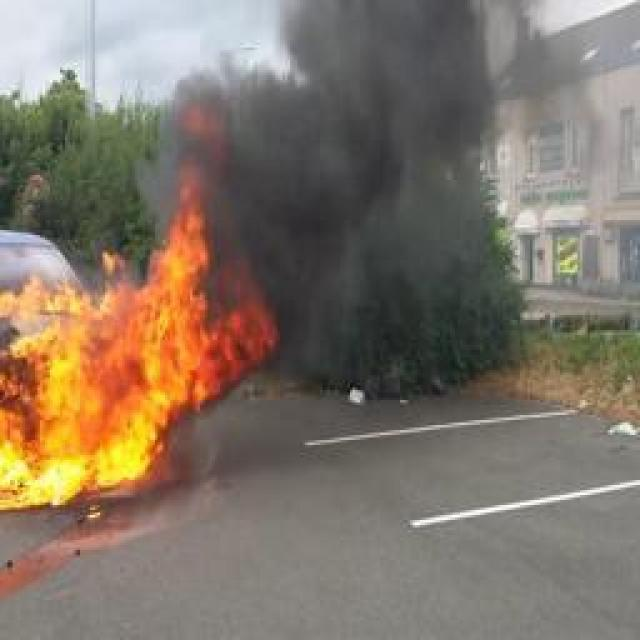Fire: (5, 161, 280, 511)
